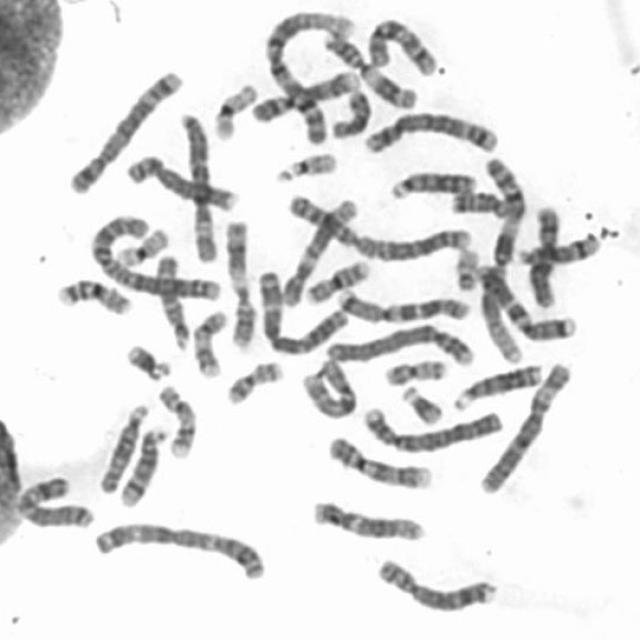A1: (258, 6, 357, 142), (473, 146, 530, 367)
A2: (284, 188, 475, 264), (85, 208, 225, 302)
A3: (89, 518, 267, 582), (252, 264, 351, 356)
B4: (321, 318, 479, 367), (358, 401, 503, 454)
B5: (64, 65, 184, 195), (358, 106, 503, 156)
C10: (363, 14, 441, 80), (297, 354, 358, 421)
C11: (315, 27, 422, 112), (219, 212, 257, 351)
C12: (276, 195, 360, 311), (305, 494, 428, 544)
C6: (474, 356, 574, 496), (173, 106, 220, 265)
C7: (468, 261, 578, 345), (331, 284, 470, 324)
C8: (372, 554, 498, 614), (122, 149, 240, 213)
C9: (246, 63, 360, 126), (322, 432, 433, 491)
D13: (448, 358, 546, 410), (383, 165, 479, 201)
D14: (115, 422, 172, 510), (506, 227, 604, 267)
D15: (92, 398, 152, 498), (149, 249, 191, 352)
E16: (52, 272, 134, 319), (300, 255, 372, 306)
E17: (151, 380, 200, 460), (187, 305, 231, 380)
E18: (328, 86, 372, 139), (445, 185, 512, 219)
F19: (209, 78, 259, 142), (111, 222, 173, 270)
F20: (220, 354, 288, 407), (380, 352, 450, 387)
G21: (121, 338, 175, 382), (396, 381, 446, 427)
G22: (268, 146, 339, 183), (450, 243, 482, 293)
X: (17, 477, 92, 534), (526, 200, 564, 309)
